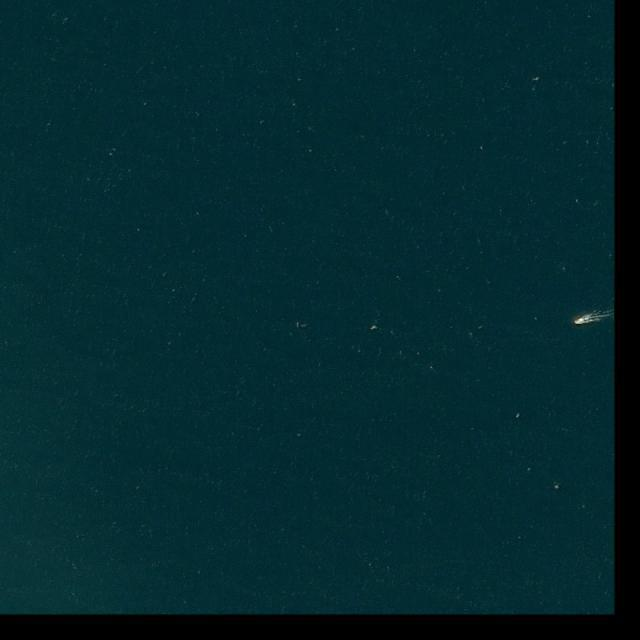ship: (572, 318, 585, 325)
